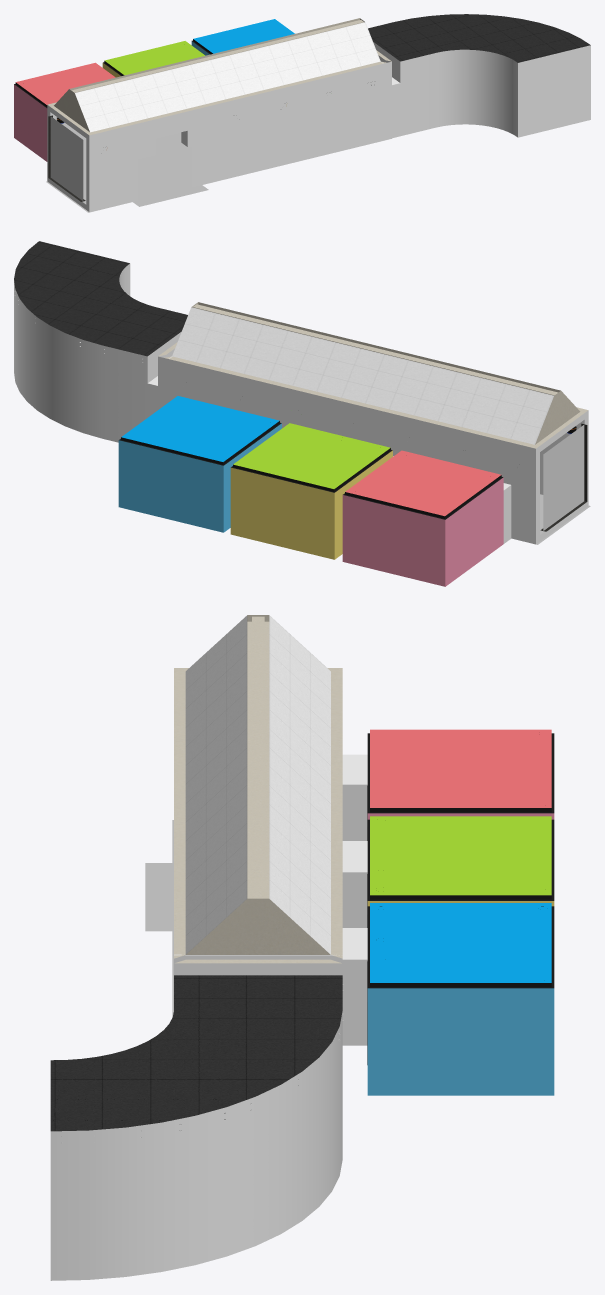
Rendered from DiningHall.fbx.
3 views of the same model, one above another, from view 1: azimuth 30°, elevation 25°; view 2: azimuth 150°, elevation 25°; view 3: azimuth 270°, elevation 25° (orthographic). The views are drawn at different scales.
Visible parts, largest first — view 1: NonBaked.023, NonBaked.027, NonBaked.028, NonBaked.029; view 2: NonBaked.023, NonBaked.027, NonBaked.029, NonBaked.028; view 3: NonBaked.023, NonBaked.029, NonBaked.027, NonBaked.028.
Boxes of the visible parts, <box> form: NonBaked.023: <box>46,14,590,212</box>; NonBaked.027: <box>14,62,115,172</box>; NonBaked.028: <box>102,41,204,154</box>; NonBaked.029: <box>191,19,294,55</box>; NonBaked.023: <box>14,241,590,544</box>; NonBaked.027: <box>342,450,511,586</box>; NonBaked.029: <box>118,396,281,532</box>; NonBaked.028: <box>230,423,393,559</box>; NonBaked.023: <box>50,615,343,1280</box>; NonBaked.029: <box>342,903,554,1095</box>; NonBaked.027: <box>342,729,554,840</box>; NonBaked.028: <box>342,816,554,927</box>.
Size of the model in its own units: 2375 by 502 by 1091.
